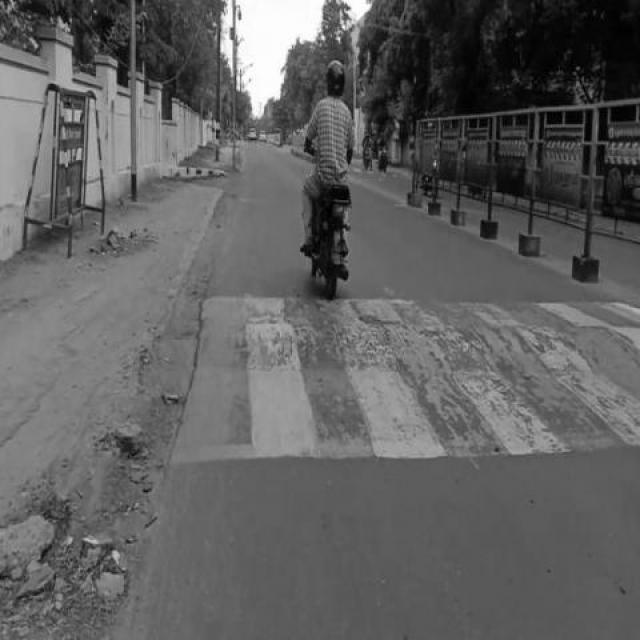Speed Bump: (166, 296, 640, 459)
